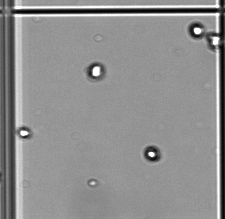Living Cell: (188, 22, 205, 39), (87, 62, 103, 79), (207, 32, 222, 49), (144, 146, 160, 161), (18, 127, 32, 138)
